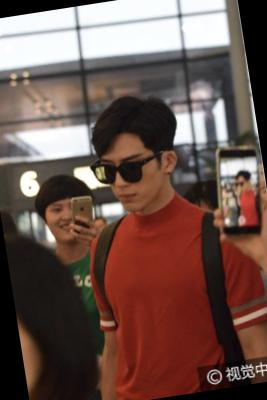without_mask: (101, 145, 170, 216), (45, 198, 86, 248)
